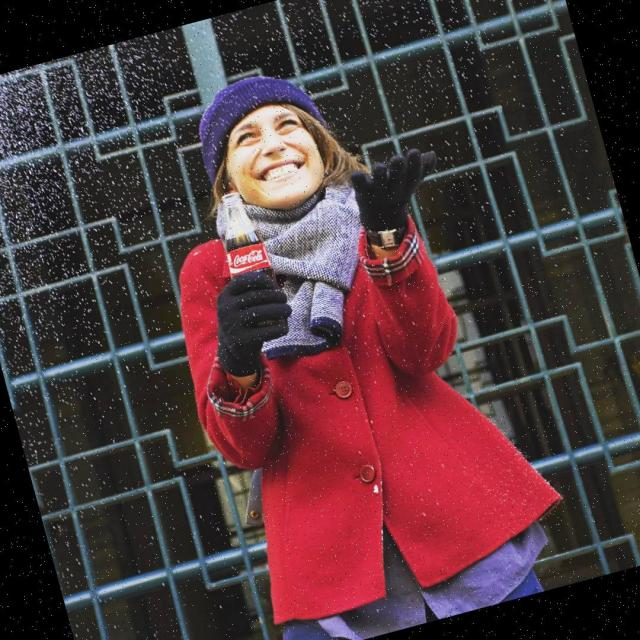coca-cola: (209, 186, 278, 293)
